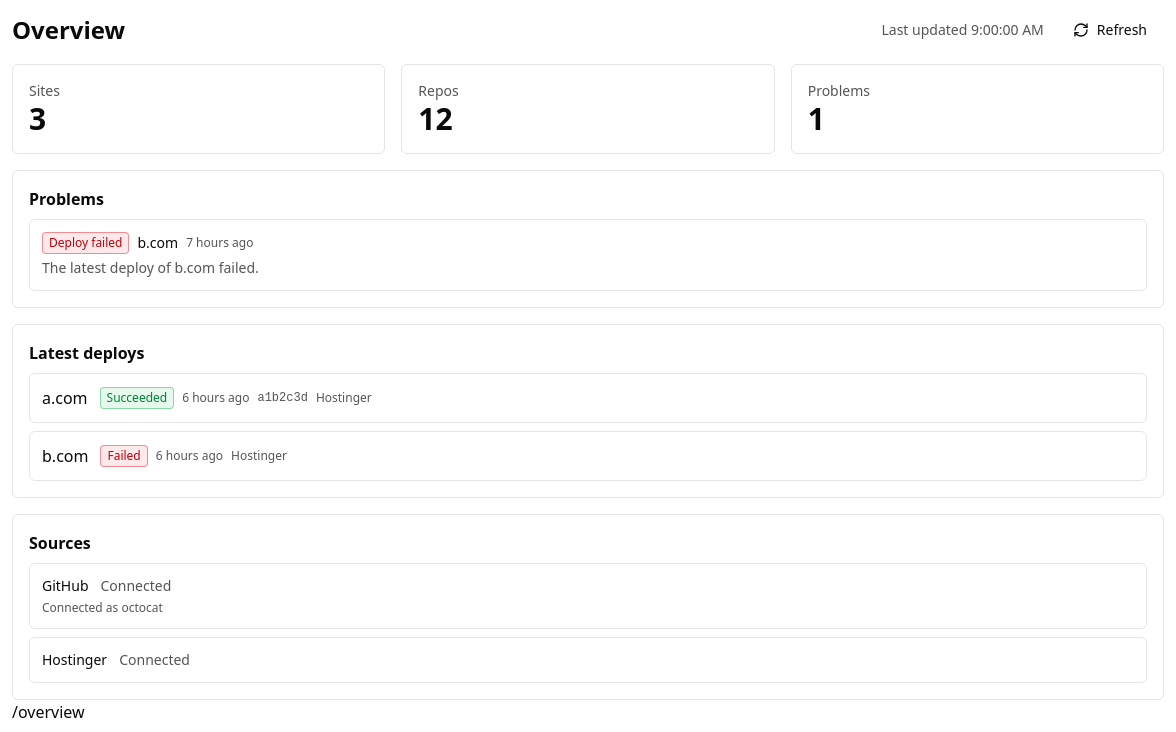
Test: OverviewPage › overview-count-sites opens /sites
The width and height of the screenshot is (1176, 732).
What coordinates should you click on to do the following:
click the link with test id "overview-count-sites"
I would click on:
 (44, 110)
Its box is [29,81,60,139].
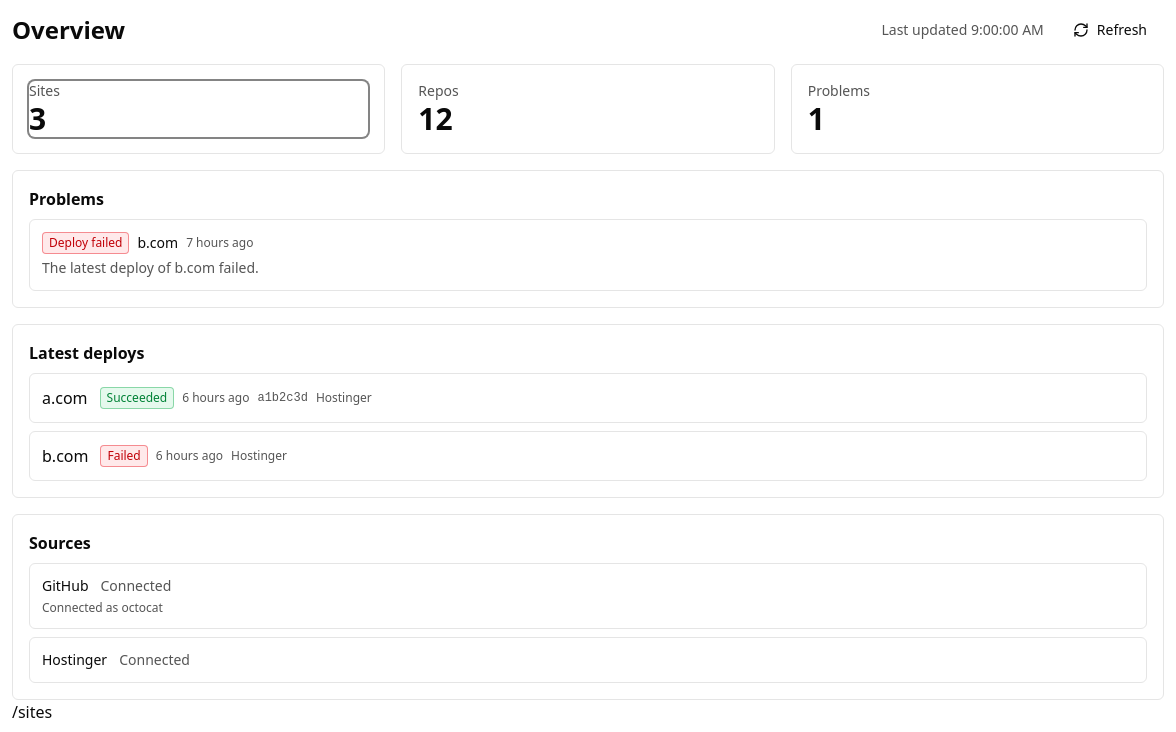
Now the text with test id "where" reads "/sites", box [12,701,52,723]
